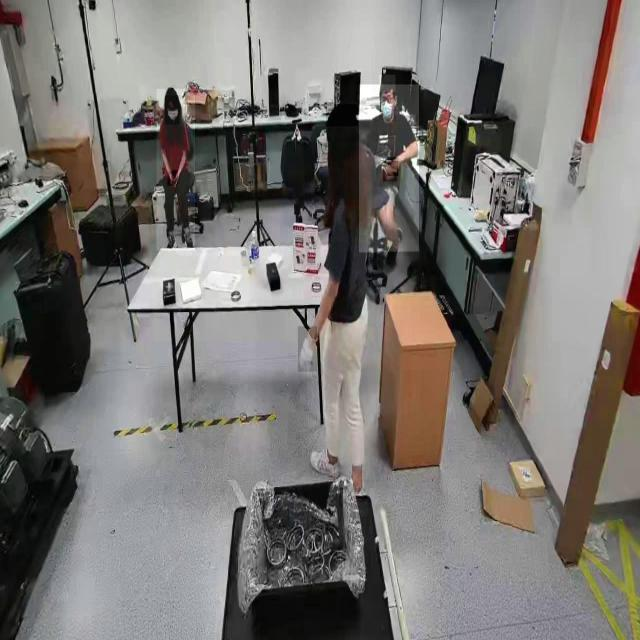face_mask: (165, 95, 179, 125), (379, 93, 395, 119)
hand_glove: (298, 327, 318, 372)
hand_noglove: (383, 161, 398, 182), (387, 157, 399, 177), (168, 172, 176, 186), (172, 170, 178, 187)
head_nohelmet: (326, 104, 358, 127), (380, 74, 396, 92), (165, 85, 178, 96)
person: (304, 108, 378, 484), (359, 85, 419, 252), (157, 89, 196, 251)
shoes: (306, 445, 340, 480), (178, 224, 196, 249), (162, 227, 176, 254)
